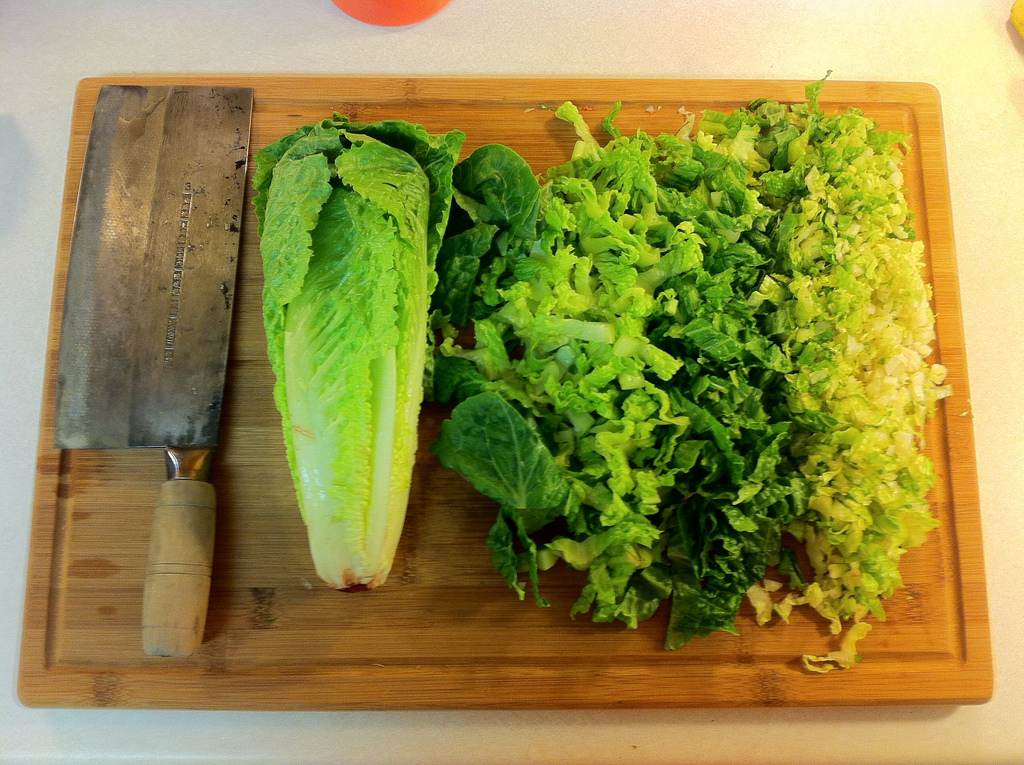chopped lettuce: (479, 120, 929, 627), (262, 135, 448, 600)
